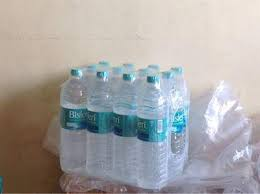Bisleri: (61, 107, 87, 127), (138, 119, 164, 139), (115, 114, 135, 136), (90, 112, 110, 133), (169, 110, 187, 133)
plastic: (62, 84, 84, 172), (113, 96, 136, 176), (91, 85, 110, 173), (145, 102, 162, 182)
